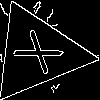X: (12, 28, 74, 82)
